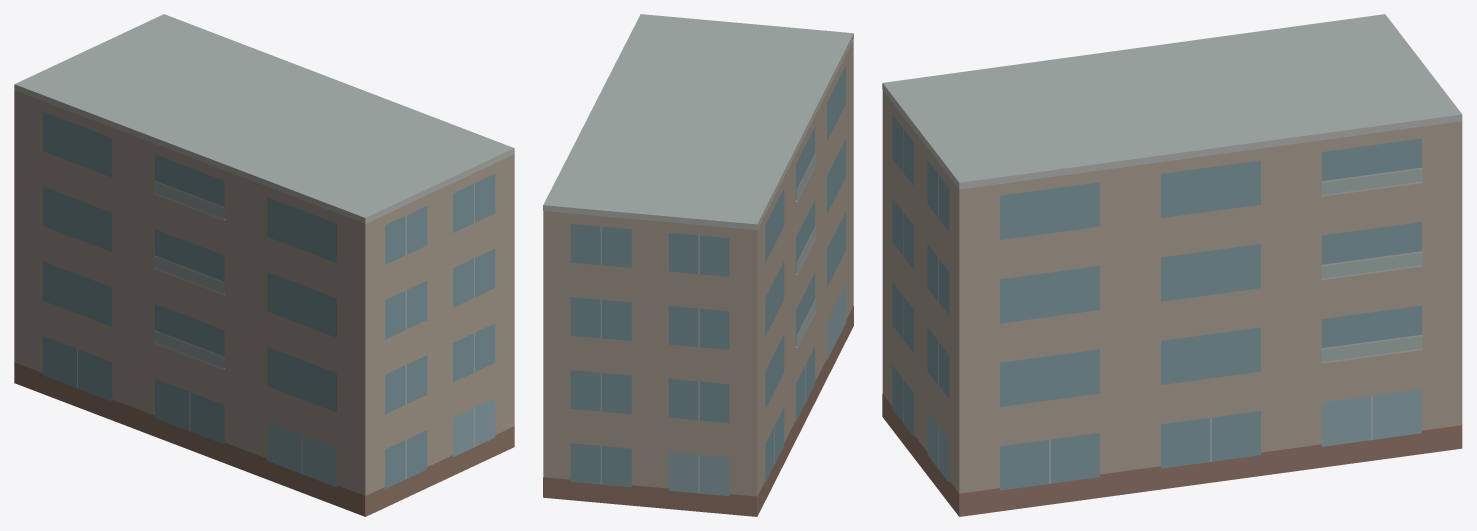
The model's file is survey-upis-33012389.glb.
3 renders of one model, left to right at view 1: azimuth 30°, elevation 25°; view 2: azimuth 150°, elevation 25°; view 3: azimuth 270°, elevation 25°, orthographic. The views are drawn at different scales.
Visible parts, largest first — view 1: survey-upis-33012389.tmp; view 2: survey-upis-33012389.tmp; view 3: survey-upis-33012389.tmp.
Boxes of the visible parts, box(x1,y1,x2,y2) form: survey-upis-33012389.tmp: box(14, 14, 514, 516); survey-upis-33012389.tmp: box(543, 14, 853, 516); survey-upis-33012389.tmp: box(882, 14, 1462, 516).
Bounding box in the file's own units: 13.24 × 12.2 × 19.2.
